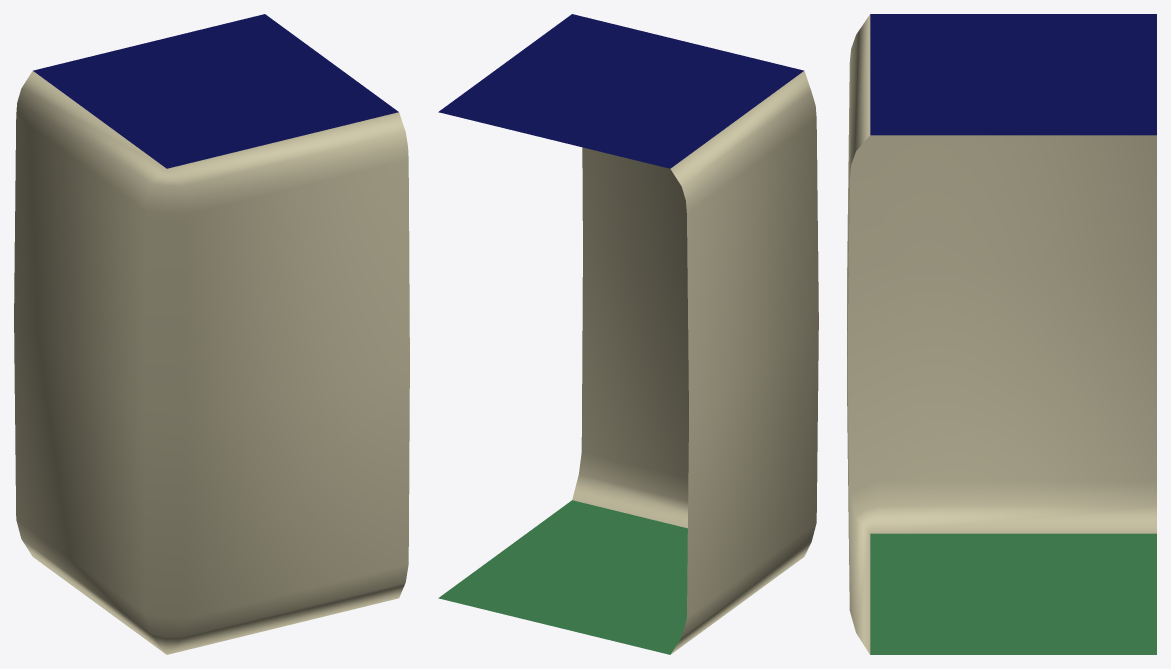
File: ModuleSC_B_corner_03.FBX
The picture shows the model from 3 angles, left to right: view 1: azimuth 30°, elevation 25°; view 2: azimuth 150°, elevation 25°; view 3: azimuth 270°, elevation 25°; orthographic projection. The views are drawn at different scales.
Parts seen in each view (by area): view 1: ModuleSCs_B_wall_02, ModuleSCs_B_roof_01; view 2: ModuleSCs_B_wall_02, ModuleSCs_B_roof_01, ModuleSCs_B_floor_01; view 3: ModuleSCs_B_wall_02, ModuleSCs_B_floor_01, ModuleSCs_B_roof_01.
Boxes of the visible parts, left/top/right/bottom form: ModuleSCs_B_wall_02: left=14, top=71, right=409, bottom=654; ModuleSCs_B_roof_01: left=33, top=14, right=398, bottom=168; ModuleSCs_B_wall_02: left=572, top=71, right=818, bottom=654; ModuleSCs_B_roof_01: left=438, top=14, right=803, bottom=168; ModuleSCs_B_floor_01: left=438, top=500, right=687, bottom=654; ModuleSCs_B_wall_02: left=847, top=14, right=1156, bottom=654; ModuleSCs_B_floor_01: left=870, top=533, right=1156, bottom=654; ModuleSCs_B_roof_01: left=870, top=14, right=1156, bottom=135.
Size of the model in its own units: 42.55 by 78.74 by 42.55.
